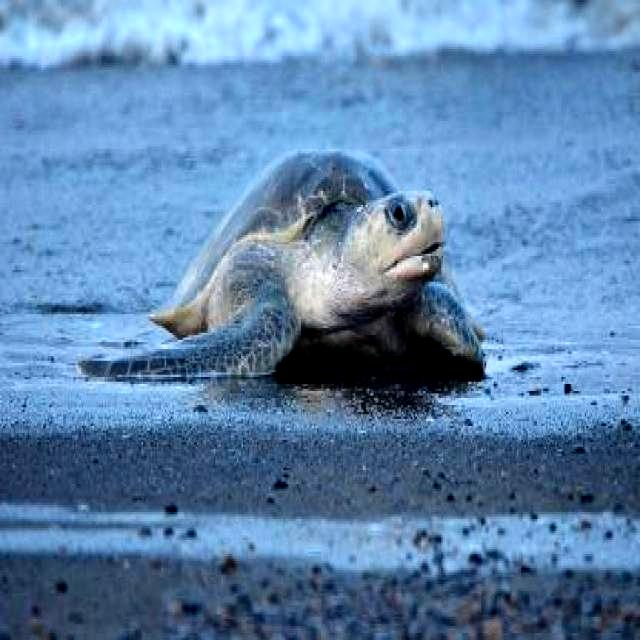Sea turtle: (94, 138, 498, 404)
